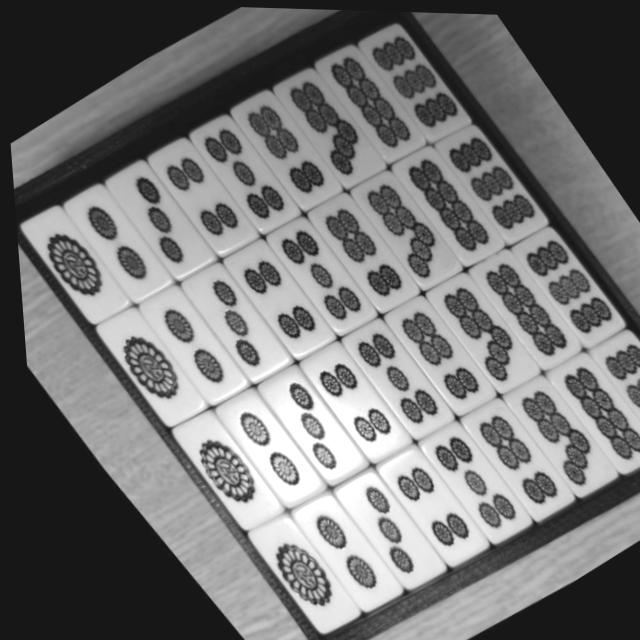sd1: (12, 198, 127, 329), (231, 514, 346, 640), (157, 409, 271, 535), (87, 309, 199, 432)
sd2: (274, 490, 388, 617), (202, 387, 311, 509), (130, 283, 239, 405), (57, 181, 166, 302)
sd3: (318, 468, 432, 594), (98, 156, 212, 281), (169, 259, 282, 383), (244, 365, 356, 489)
sd4: (360, 445, 474, 571), (213, 236, 325, 359), (287, 340, 399, 462), (141, 133, 251, 254)
sd5: (400, 419, 520, 550), (328, 314, 444, 442), (183, 108, 296, 234), (256, 211, 367, 334)
sd6: (443, 395, 563, 527), (226, 84, 338, 209), (373, 292, 484, 416), (300, 189, 411, 313)
sd7: (267, 61, 384, 190), (413, 267, 530, 395), (488, 372, 604, 500), (340, 163, 456, 291)
sd8: (383, 140, 499, 268), (458, 243, 573, 371), (312, 37, 424, 164), (534, 349, 640, 477)
sd9: (353, 14, 470, 145), (500, 222, 616, 350), (428, 120, 543, 245), (574, 326, 640, 454)
